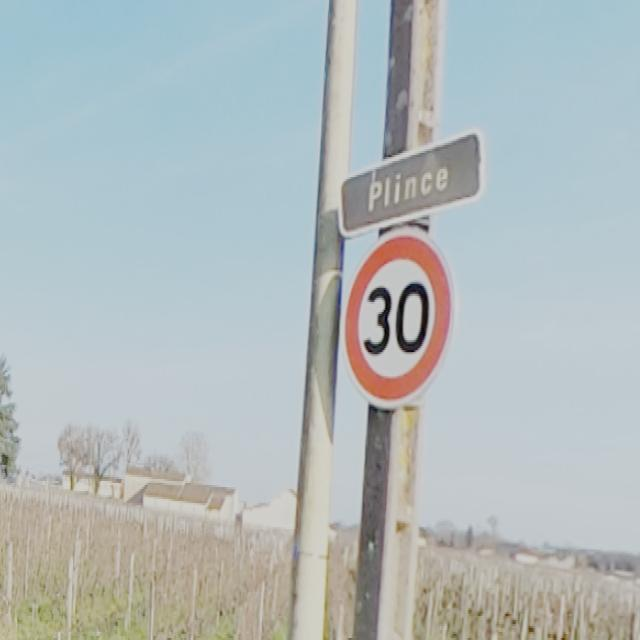speed_30: (343, 230, 456, 408)
